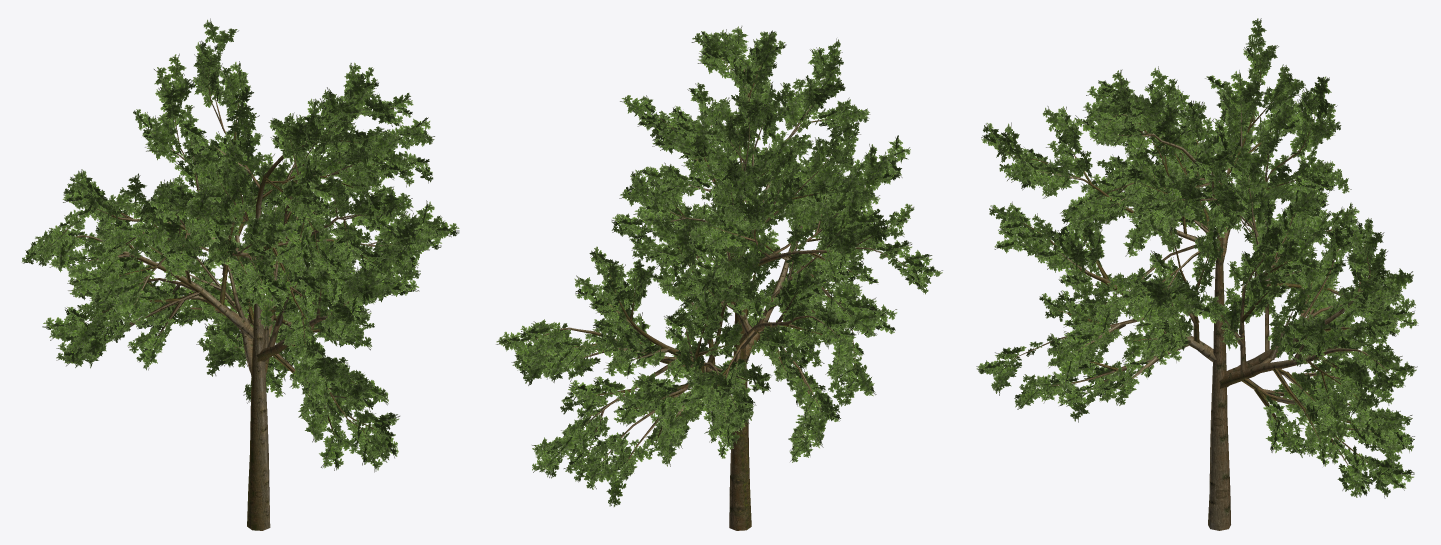
The model's file is tree.glb.
3 renders of one model, left to right at view 1: azimuth 30°, elevation 25°; view 2: azimuth 150°, elevation 25°; view 3: azimuth 270°, elevation 25°, orthographic. The views are drawn at different scales.
Parts seen in each view (by area): view 1: Tree; view 2: Tree; view 3: Tree.
Part boxes in pixels (x1=…): Tree: x1=21, y1=18, x2=459, y2=530; Tree: x1=496, y1=26, x2=942, y2=530; Tree: x1=976, y1=18, x2=1418, y2=530.
Bounding box in the file's own units: 52.63 × 64.73 × 53.53.
2 materials, 2 textured.
